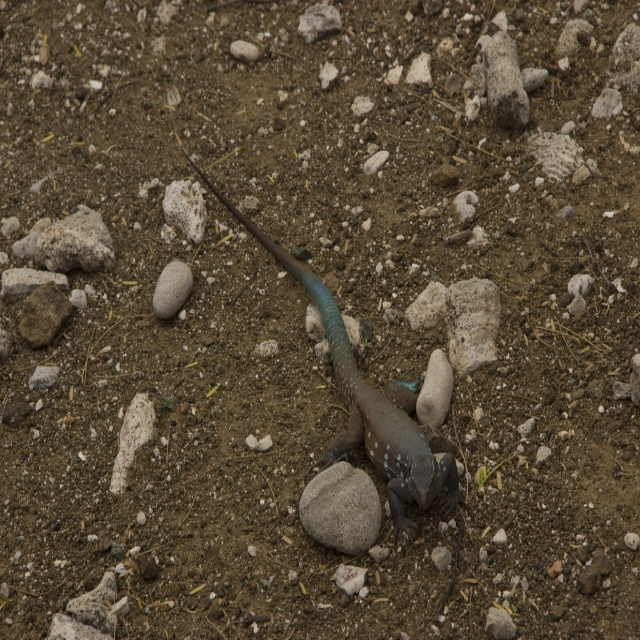Lizard: (202, 151, 470, 567)
